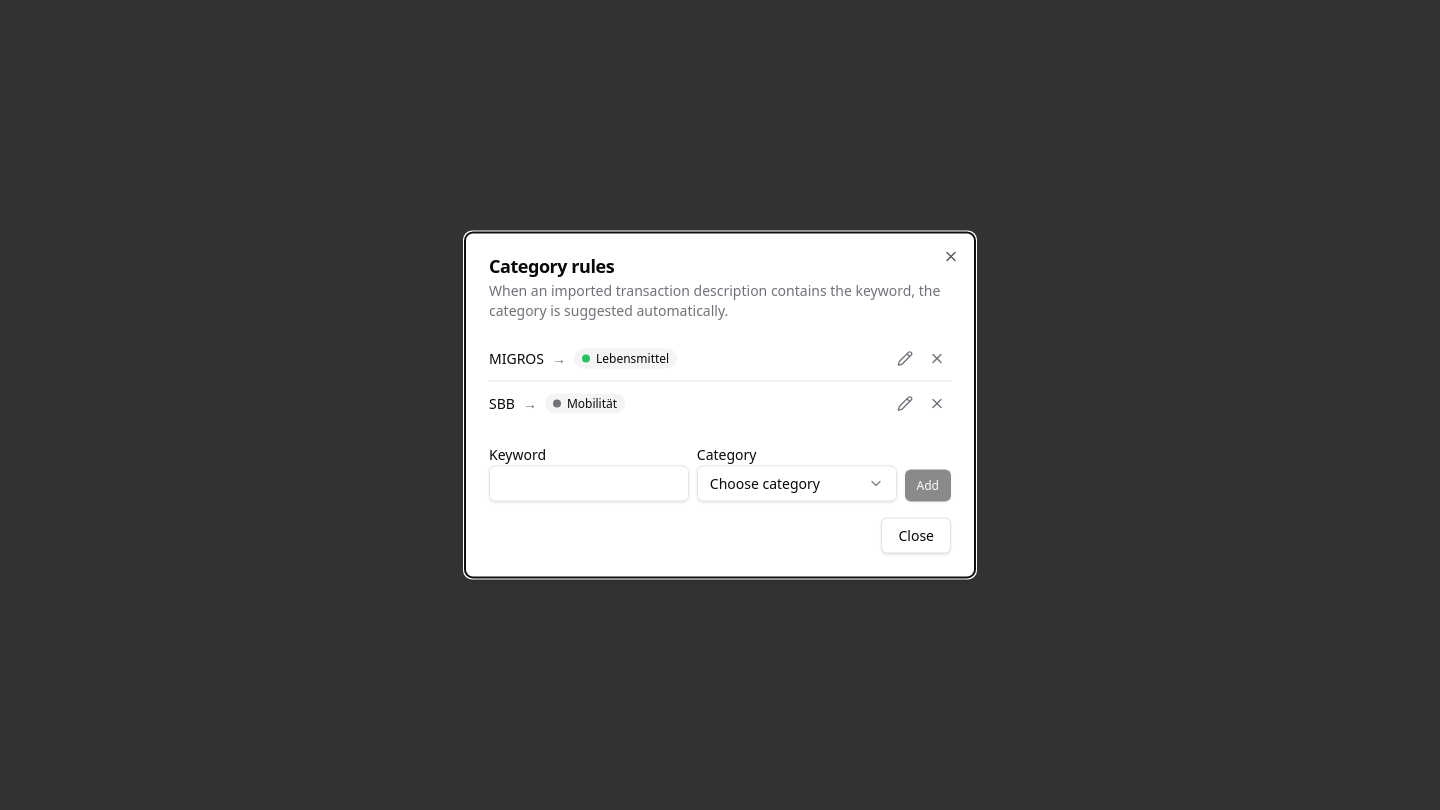
Test case: CategoryRulesDialog › shows the duplicate-keyword message on a 409
This screenshot has width=1440, height=810.
Check: the text "MIGROS" is shown, box [489,348,544,368]
Type "MIGROS" into the field labelled "Keyword".
click(589, 484); type("MIGROS")  # box [489,466,689,502]
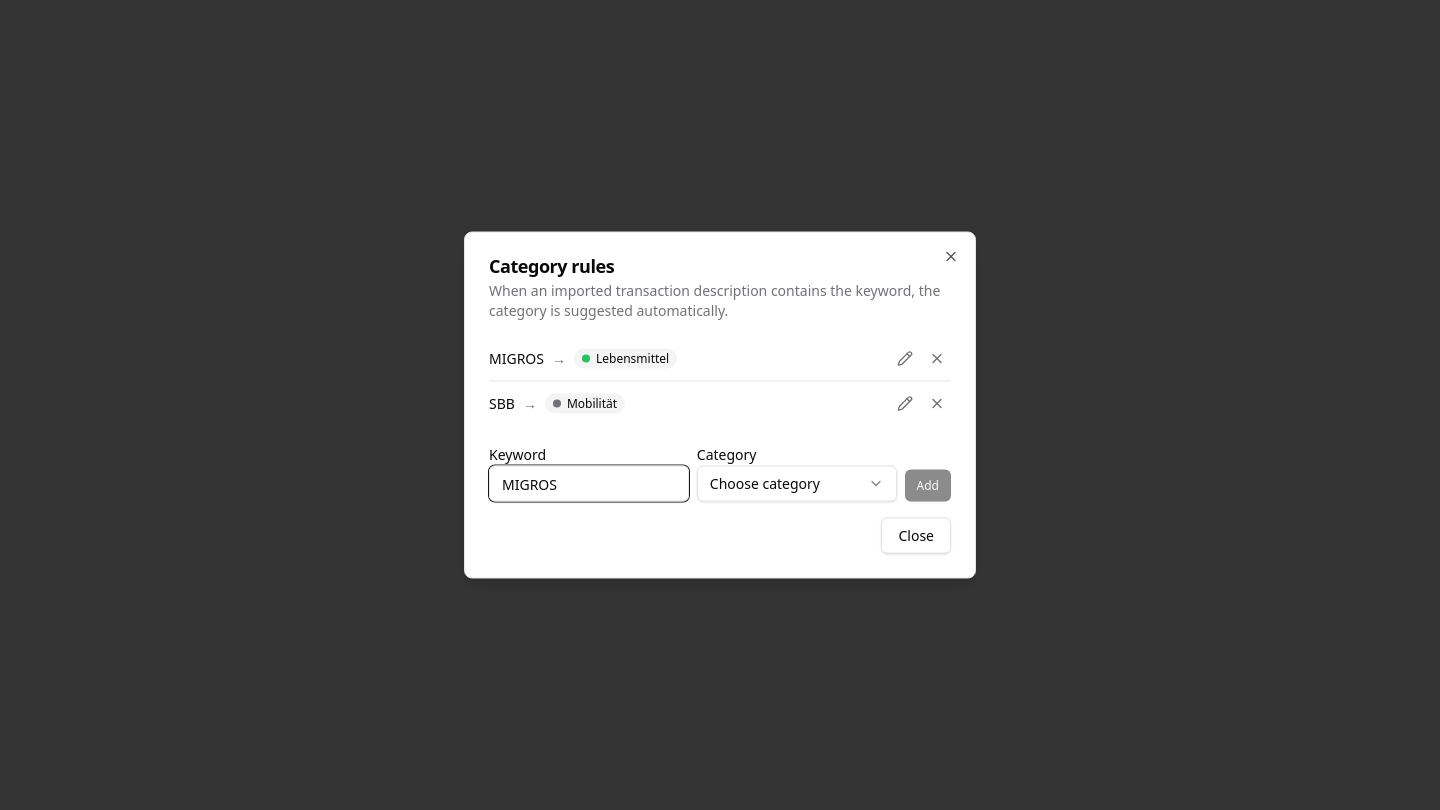
Click the dropdown labelled "category".
click(797, 484)  # box [697,466,897,502]
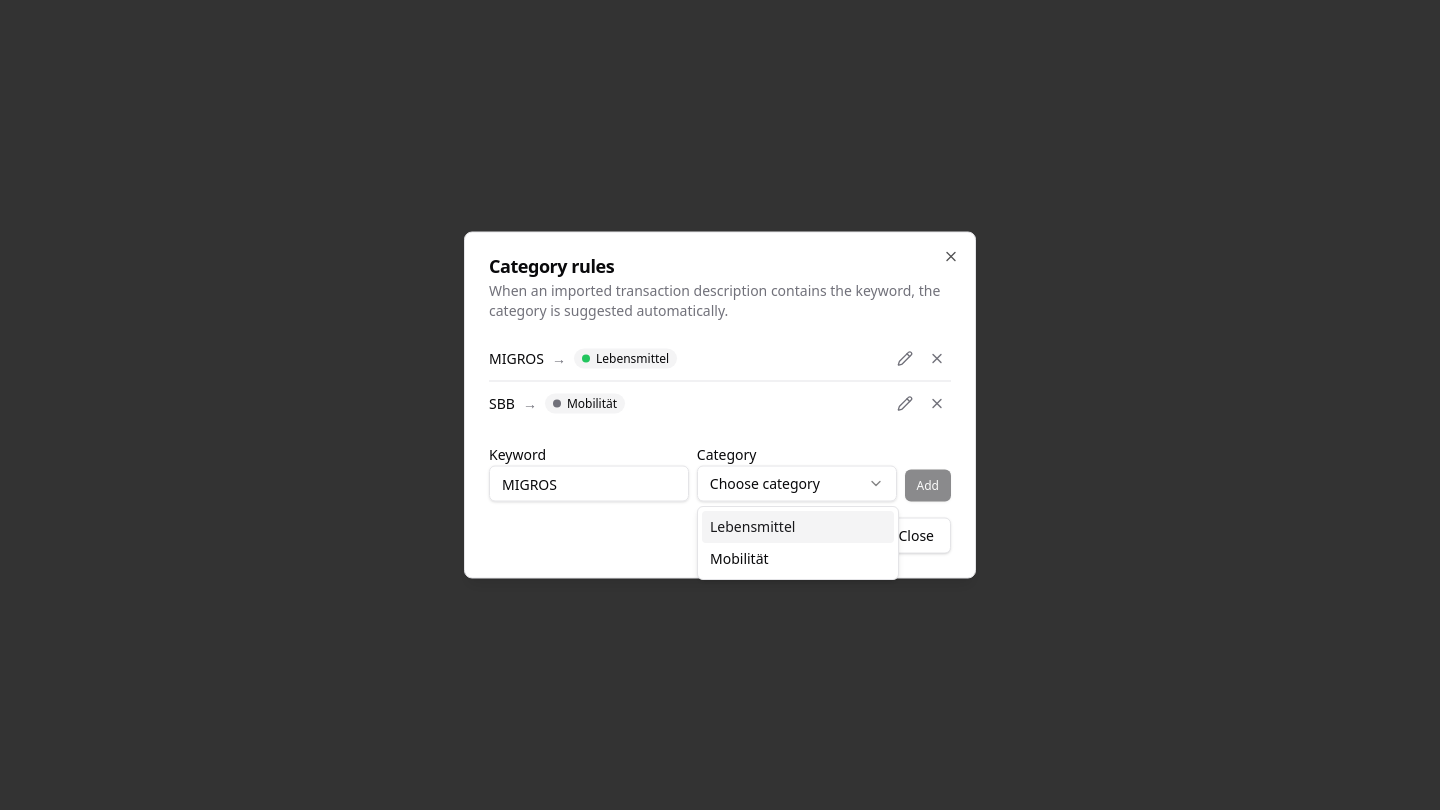
Click the option "Lebensmittel".
click(798, 527)  # box [702,511,894,543]
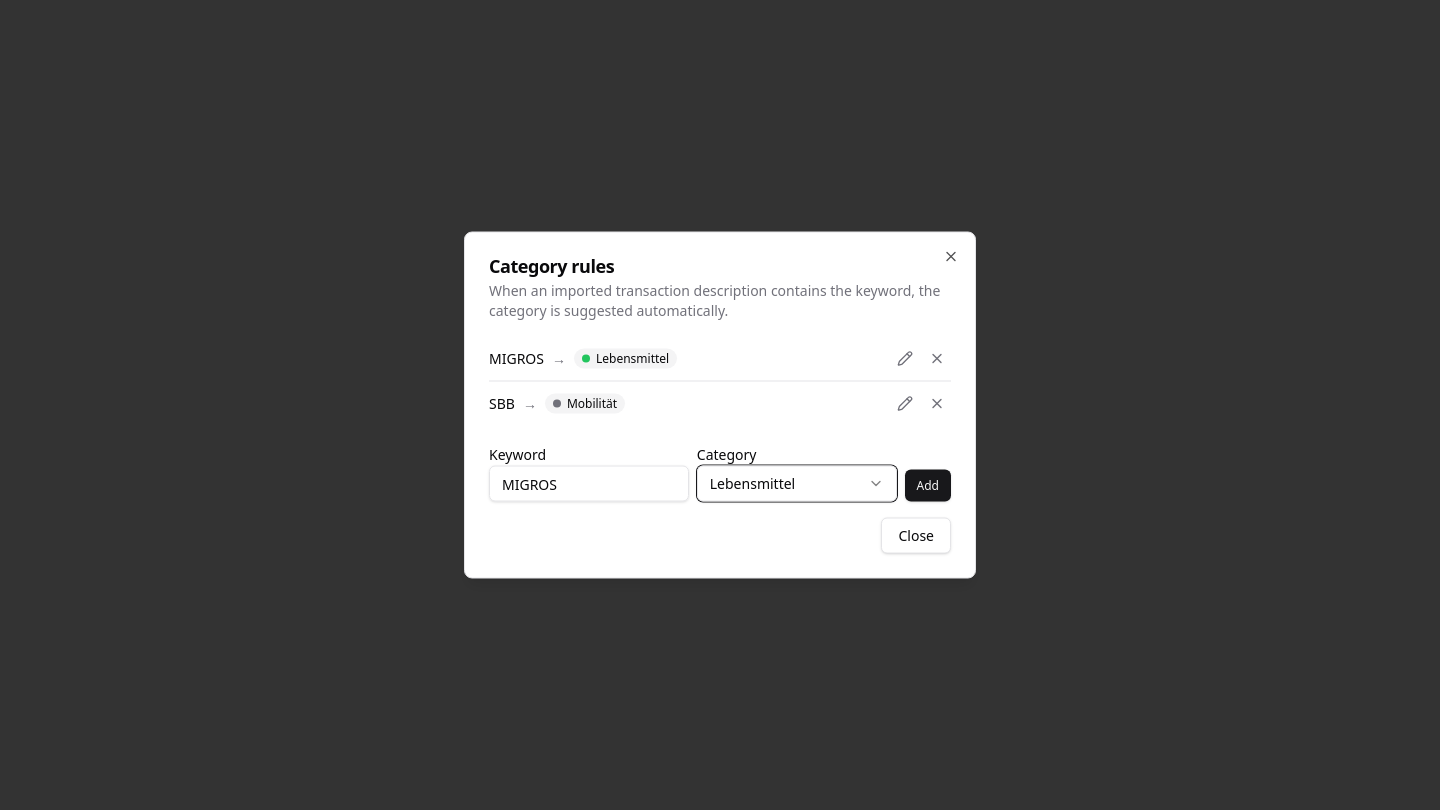
Click the button "Add".
click(928, 486)  # box [905,470,951,502]
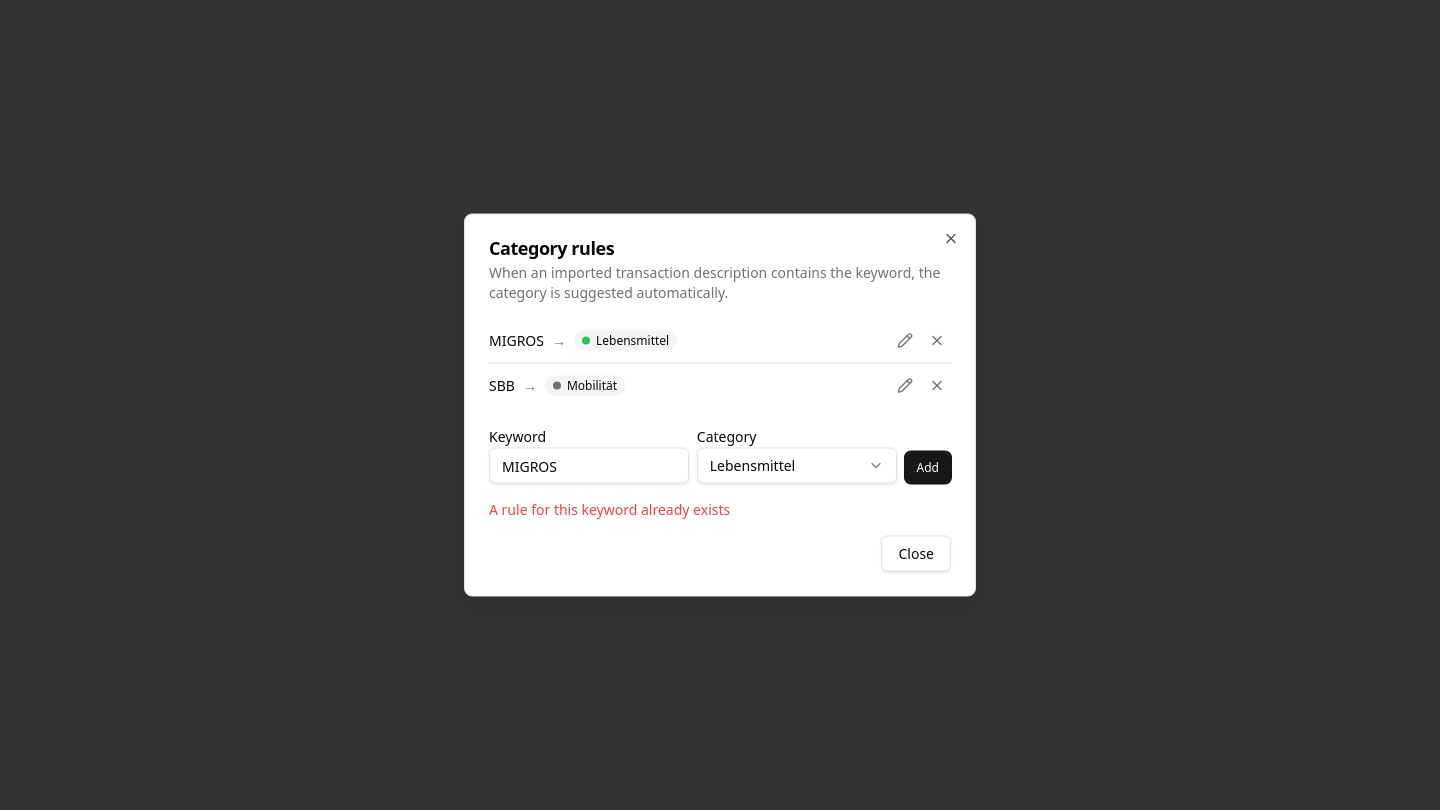
Check: the text "A rule for this keyword already exists" is shown, box [489,500,730,518]
